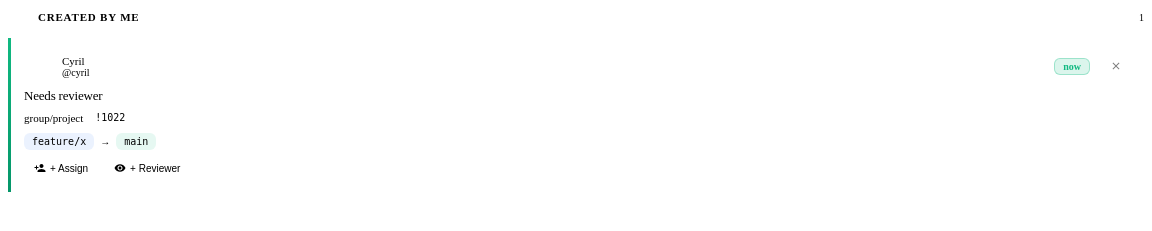
Test: MergeRequestsTab › the Reviewer button calls addReviewer (not assignMR) with the sentinel id for "Me"
Expected: the text "Needs reviewer" is shown, [24,88,102,103]
Click the button "+ Reviewer".
click(147, 168)  # box [104,158,190,178]
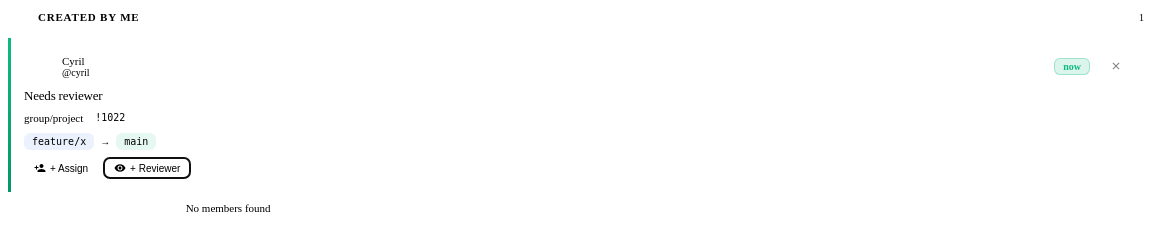
Result: the text "No members found" is shown at [186,202,270,214]
